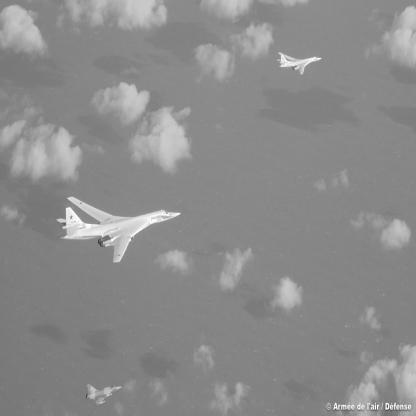Mig31: (57, 197, 182, 264), (277, 53, 323, 76)
Mirage2000: (87, 385, 124, 406)
